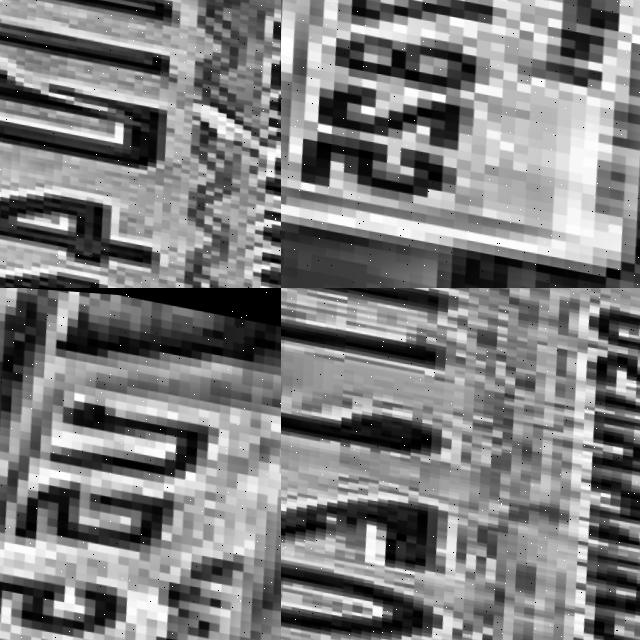license-plate: (281, 288, 640, 640), (281, 0, 640, 288), (0, 345, 281, 640), (0, 0, 281, 288)
